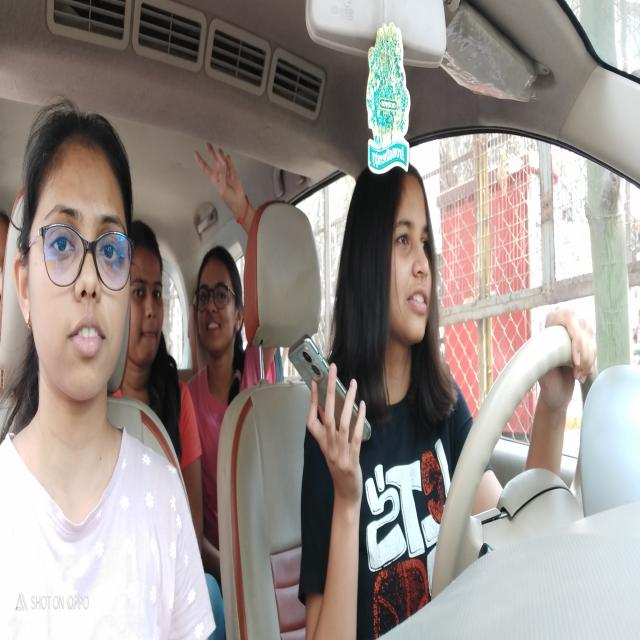mobile: (284, 334, 374, 451)
person: (24, 101, 131, 392), (360, 159, 439, 357), (130, 217, 169, 376), (198, 248, 239, 360)
